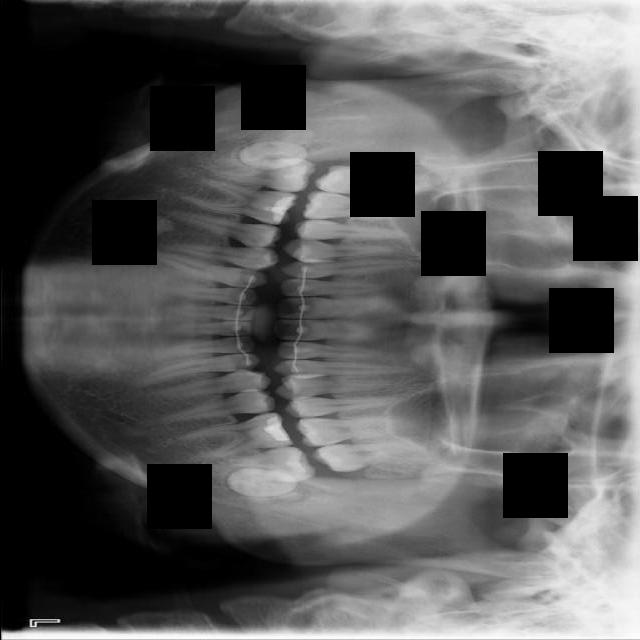52: (242, 406, 293, 460), (242, 184, 298, 228)
73: (38, 623, 46, 629)
BioHorizons Implant: (311, 442, 433, 473)
Biomet 3i Implant: (224, 463, 307, 506)
Blue Sky Bio Implant: (208, 445, 316, 488)
Caries: (316, 163, 434, 201)
Implant: (206, 155, 313, 192)
Keystone Dental Implant: (235, 121, 318, 177)
